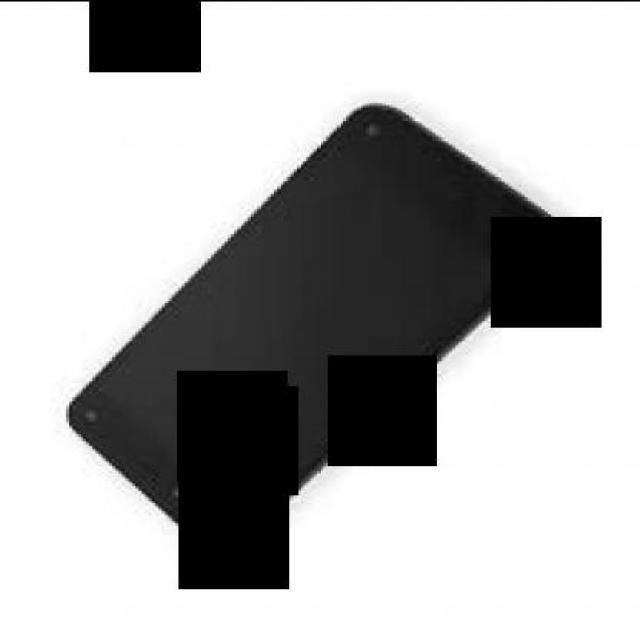fake: (53, 89, 570, 551)
